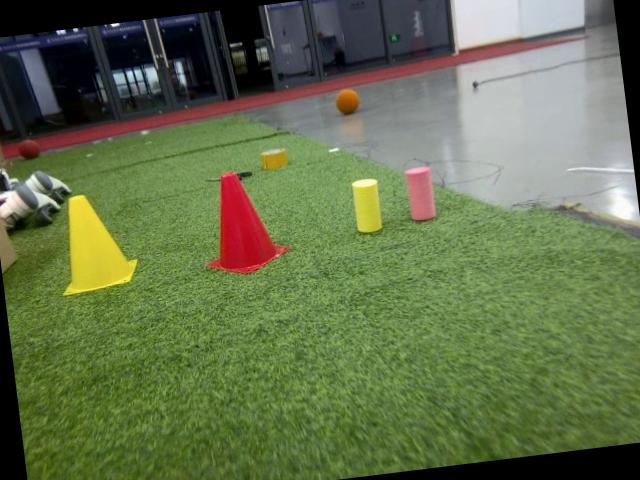orange_ball: (331, 86, 362, 118)
red_barrel: (194, 167, 296, 280)
red_cylinder: (400, 162, 440, 226)
yellow_barrel: (47, 186, 142, 298)
yellow_cylinder: (346, 176, 386, 236)
